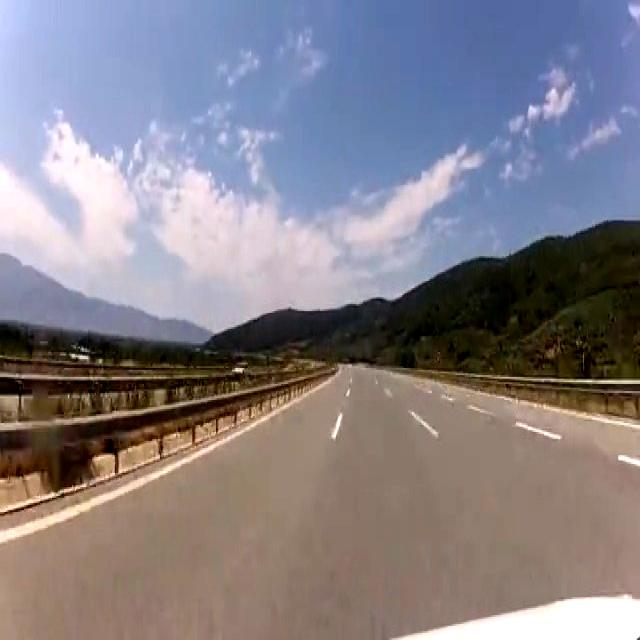lane: (1, 424, 249, 543), (408, 411, 439, 439), (330, 411, 342, 439), (382, 387, 392, 398), (346, 387, 351, 397)
road: (2, 367, 638, 639)
